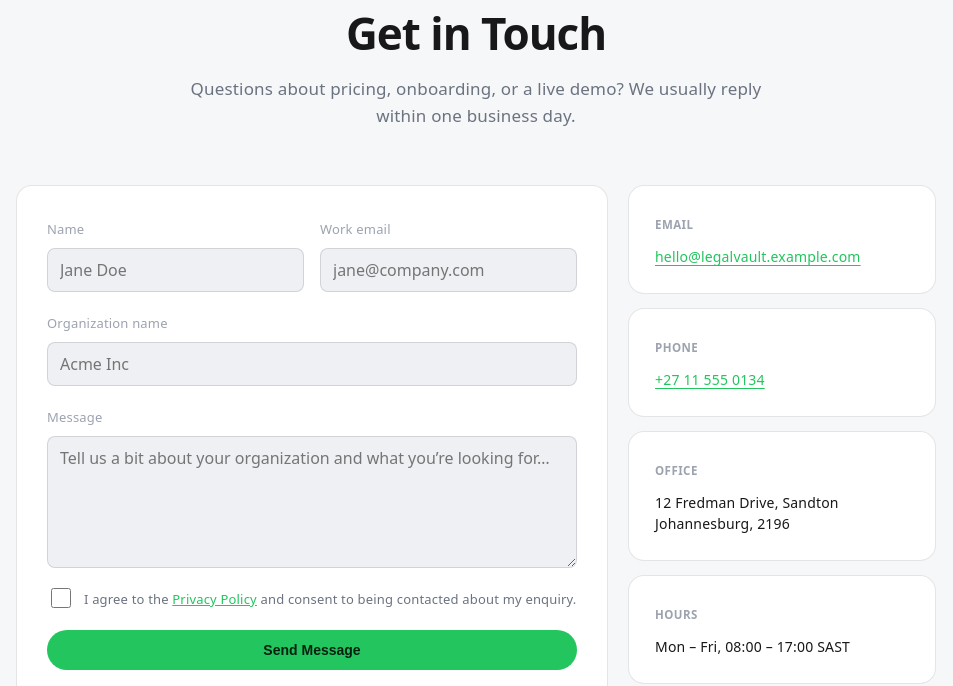
Test case: Contact › does not submit without a message
This screenshot has width=953, height=686.
What coordinates should you click on to do the following:
click the button "Send Message"
I would click on:
 (312, 650)
Its box is [47,630,577,670].
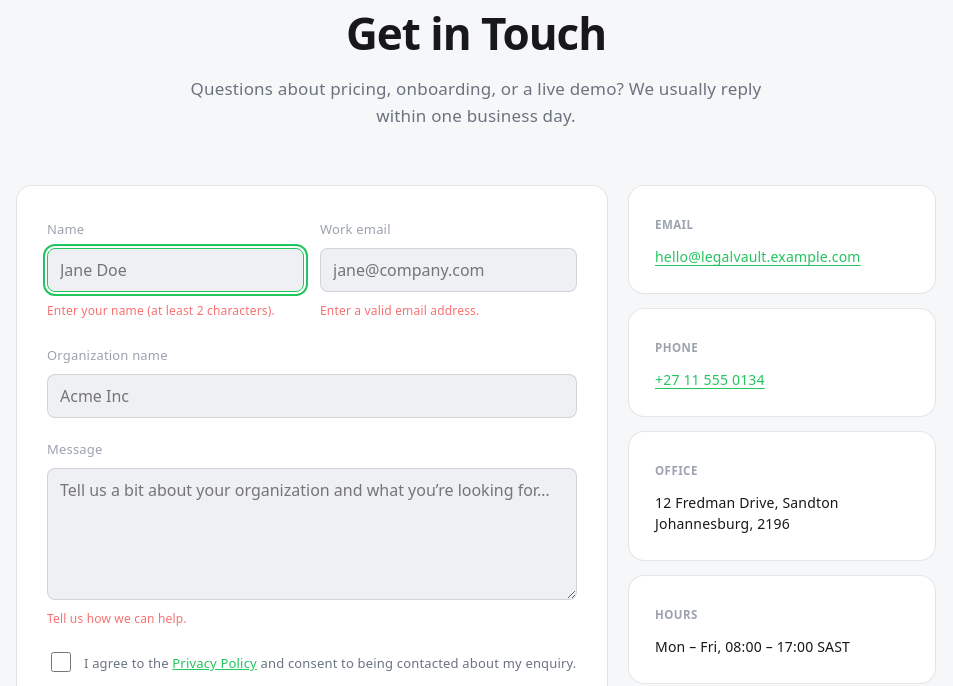
Expected: the text "Tell us how we can help." is shown, [47,610,187,627]
